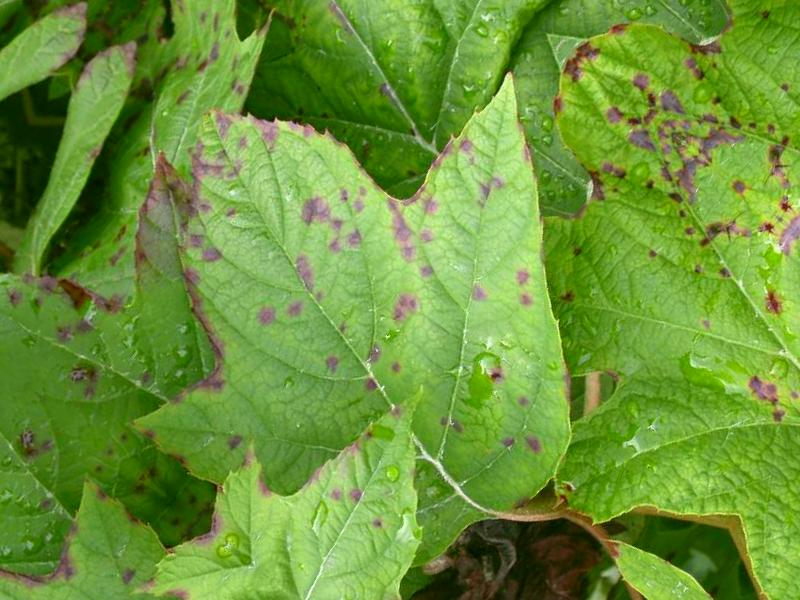Tomato leaf bacterial spot: (81, 0, 726, 568)
